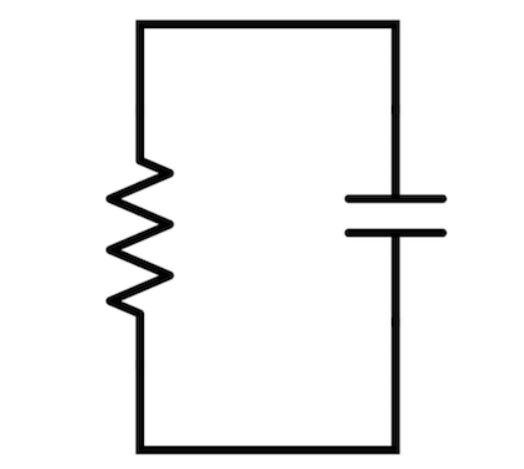resistor: (94, 130, 189, 337)
